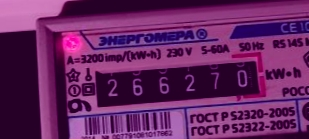0: (233, 69, 247, 90)
2: (102, 79, 119, 100), (180, 74, 196, 95)
6: (128, 77, 143, 99), (155, 77, 170, 97)
7: (206, 72, 219, 92)
screen: (83, 51, 270, 116)
